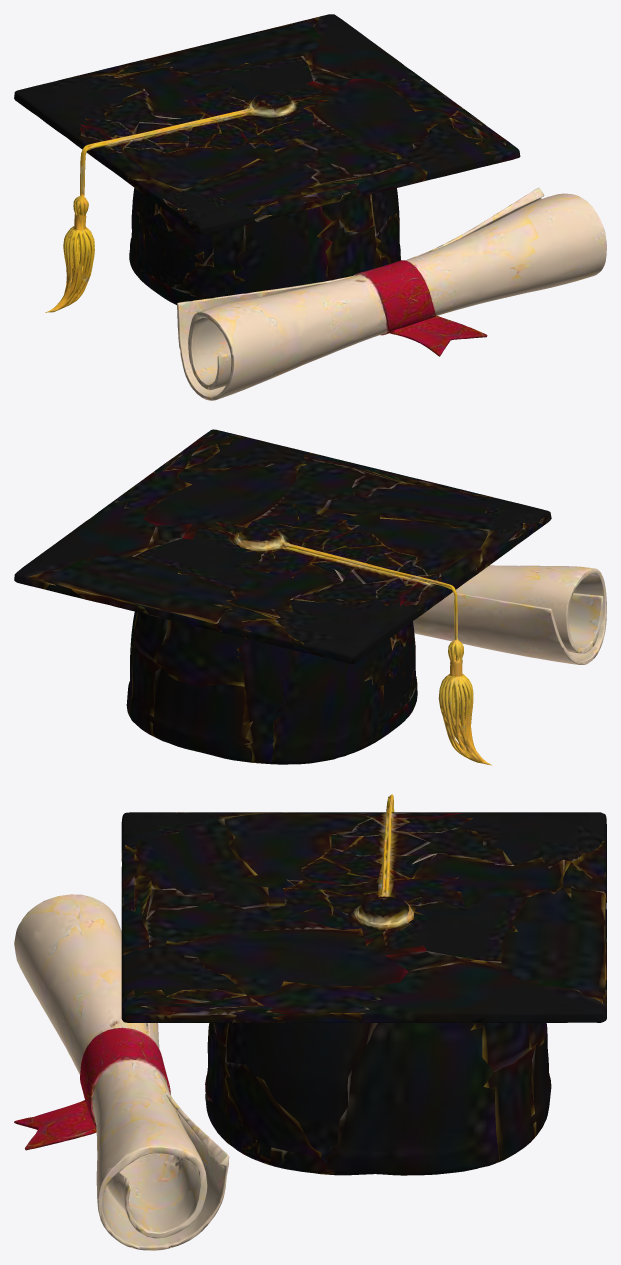
The picture shows the model from 3 angles, top to bottom: view 1: azimuth 30°, elevation 25°; view 2: azimuth 150°, elevation 25°; view 3: azimuth 270°, elevation 25°; orthographic projection. The views are drawn at different scales.
Size of the model in its own units: 1.9 by 0.6698 by 1.7.
1 material, 1 textured.
